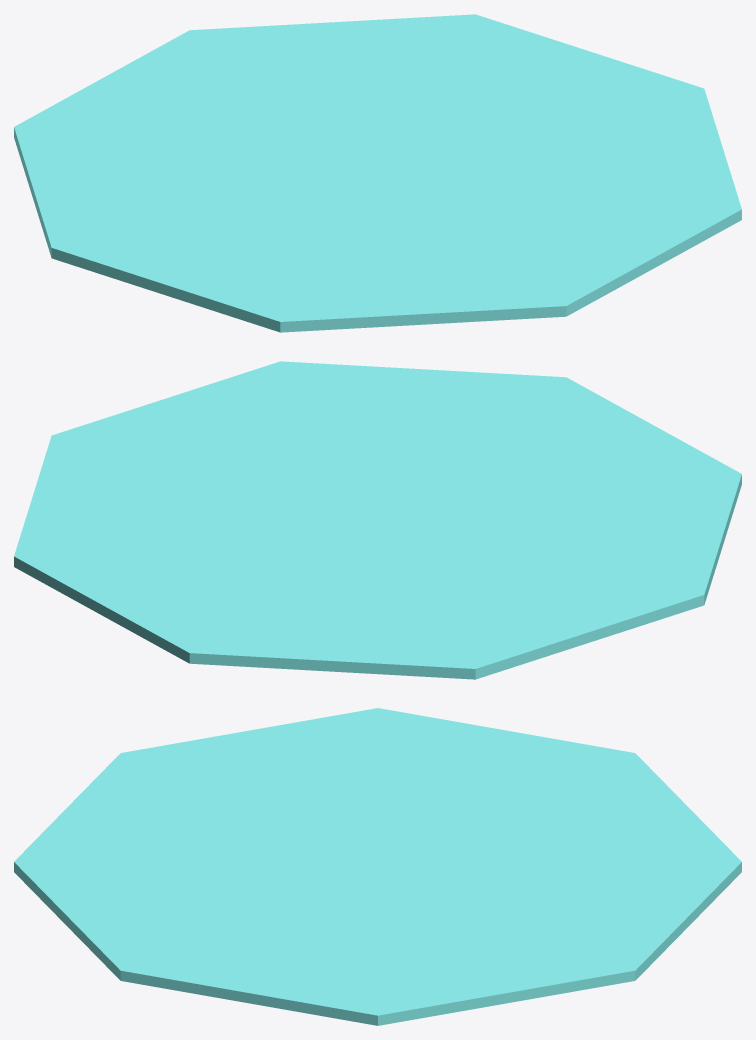
The model's file is beverage.fbx.
3 renders of one model, top to bottom at view 1: azimuth 30°, elevation 25°; view 2: azimuth 150°, elevation 25°; view 3: azimuth 270°, elevation 25°, orthographic. The views are drawn at different scales.
Parts seen in each view (by area): view 1: pCylinder1; view 2: pCylinder1; view 3: pCylinder1.
Boxes of the visible parts, x1,y1,x2,y2 form: pCylinder1: (14,14,741,332); pCylinder1: (14,361,741,679); pCylinder1: (14,708,741,1025).
Size of the model in its own units: 2 by 0.0311 by 2.
